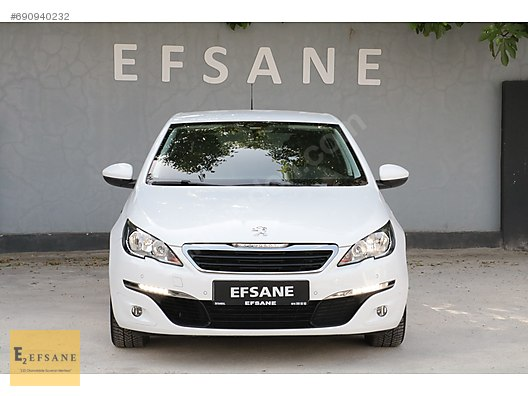peugeot: (99, 106, 424, 356)
